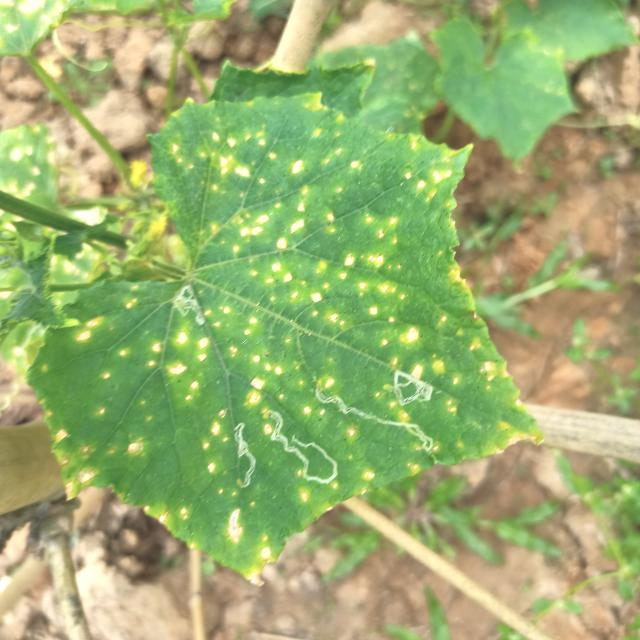disease_cucumber: (44, 301, 467, 570), (158, 110, 527, 404)
